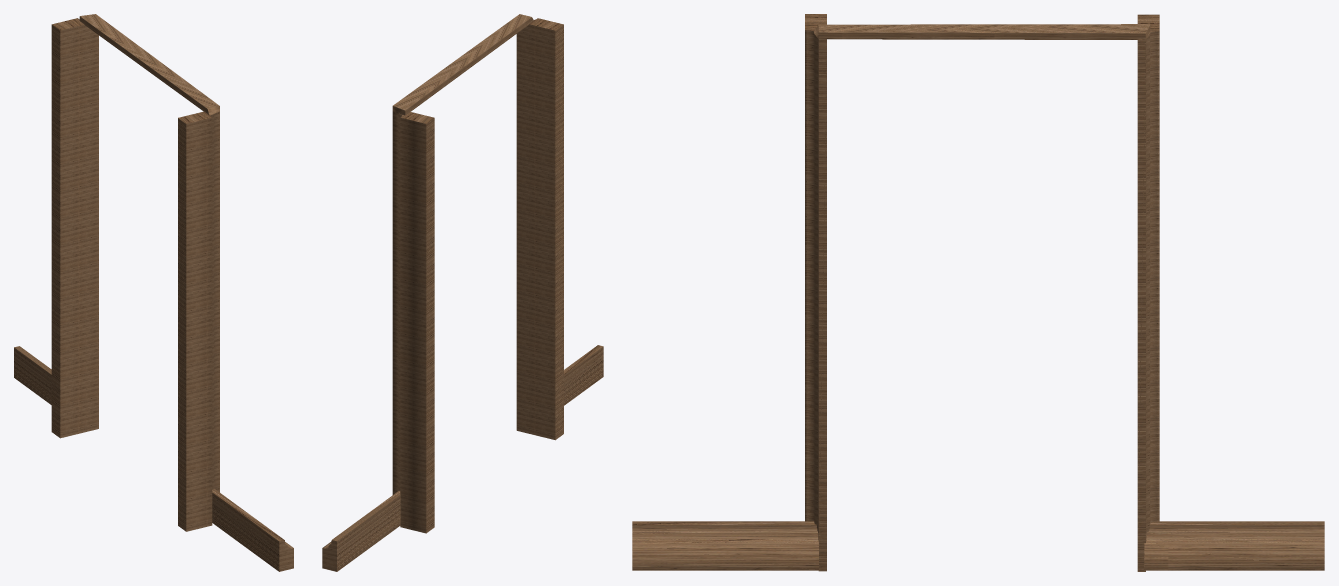
Rendered from soupdoortrim003.obj.
The picture shows the model from 3 angles, left to right: view 1: azimuth 30°, elevation 25°; view 2: azimuth 150°, elevation 25°; view 3: azimuth 270°, elevation 25°; orthographic projection. The views are drawn at different scales.
Parts seen in each view (by area): view 1: soupdoortrim003_high_1; view 2: soupdoortrim003_high_1; view 3: soupdoortrim003_high_1.
Boxes of the visible parts, x1,y1,x2,y2 form: soupdoortrim003_high_1: [14, 14, 293, 571]; soupdoortrim003_high_1: [322, 14, 603, 571]; soupdoortrim003_high_1: [632, 14, 1324, 571].
Size of the model in its own units: 0.2435 by 2.32 by 2.7.
